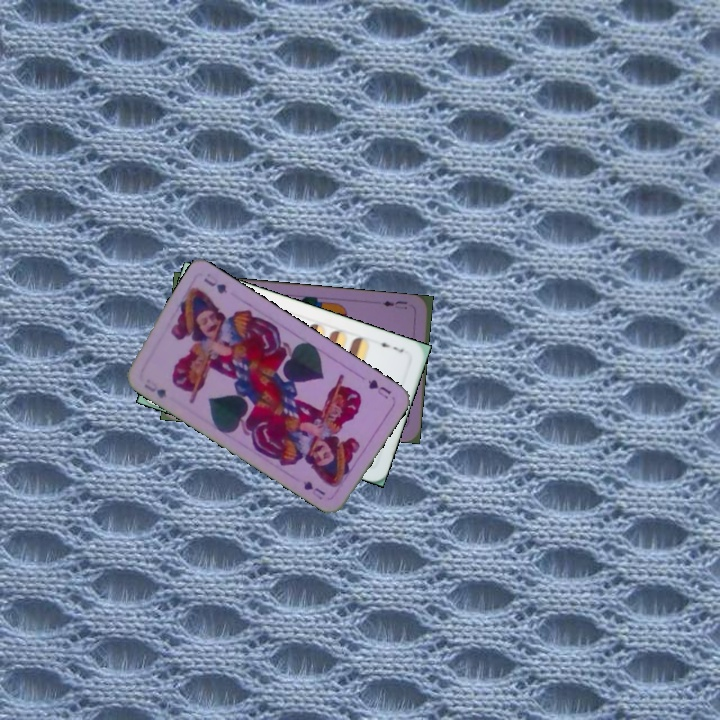E7: (373, 337, 406, 355)
EU: (379, 297, 410, 312)
GU: (364, 375, 394, 402), (140, 379, 169, 401)
